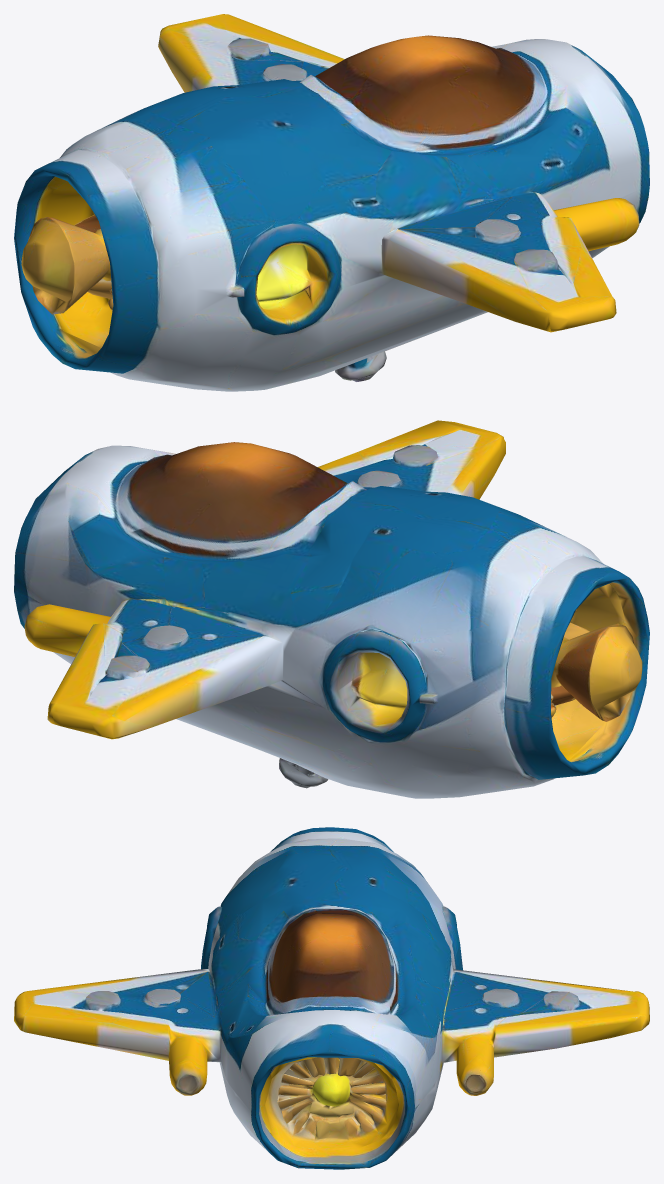
The model's file is ship-player.glb.
The picture shows the model from 3 angles, top to bottom: view 1: azimuth 30°, elevation 25°; view 2: azimuth 150°, elevation 25°; view 3: azimuth 270°, elevation 25°; orthographic projection. The views are drawn at different scales.
Bounding box in the file's own units: 1.57 × 0.8403 × 1.9.
Materials: 1 (1 with a texture image).
